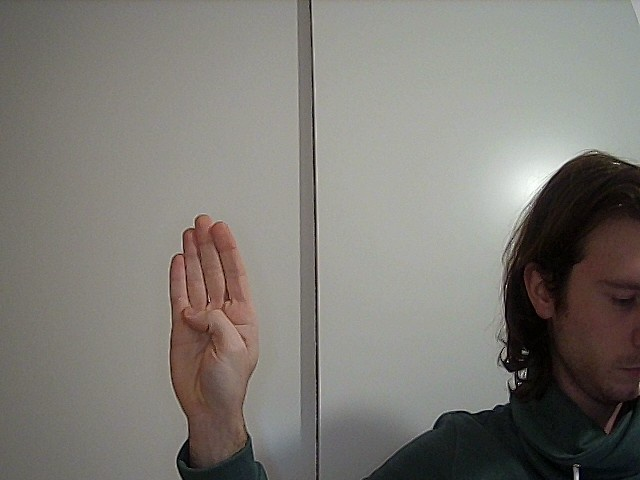b: (140, 205, 288, 416)
